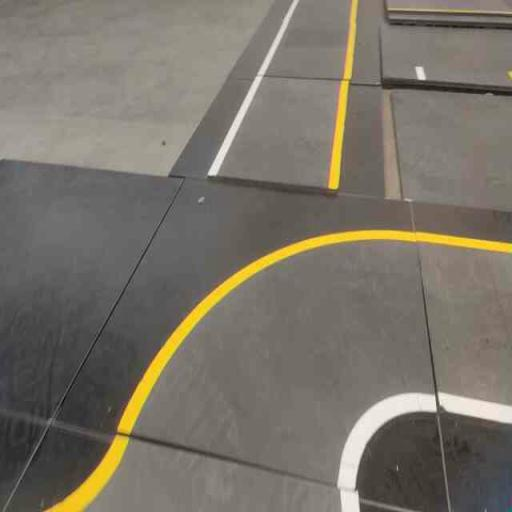right: (75, 204, 451, 511)
